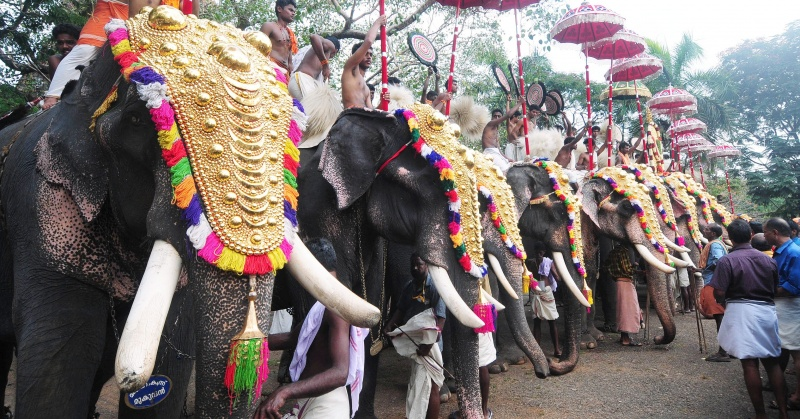Indian Elephant: (3, 10, 328, 418), (308, 96, 502, 419), (479, 148, 718, 387)
